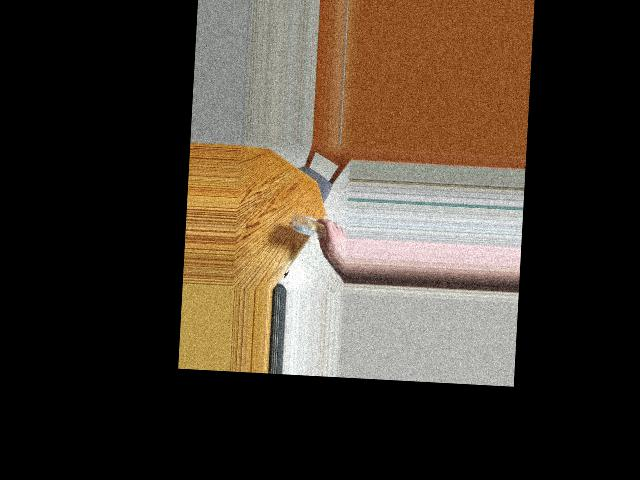cheese: (292, 212, 327, 245)
